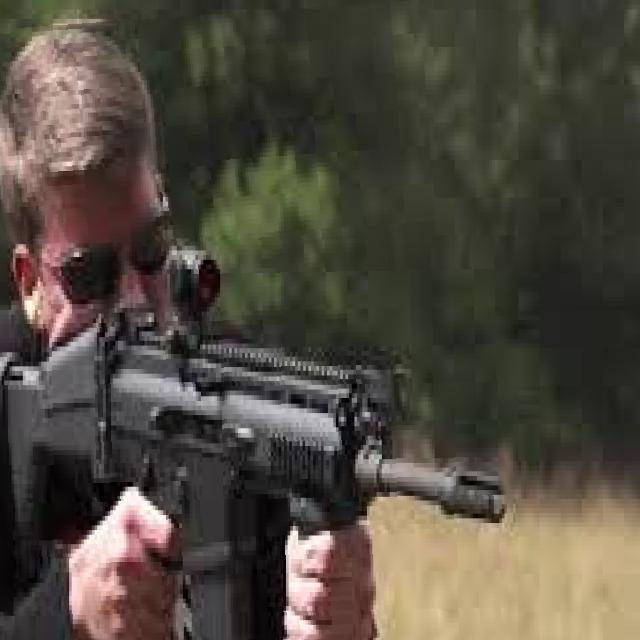Gun_Holder: (28, 256, 492, 620)
Person: (15, 0, 410, 640)
